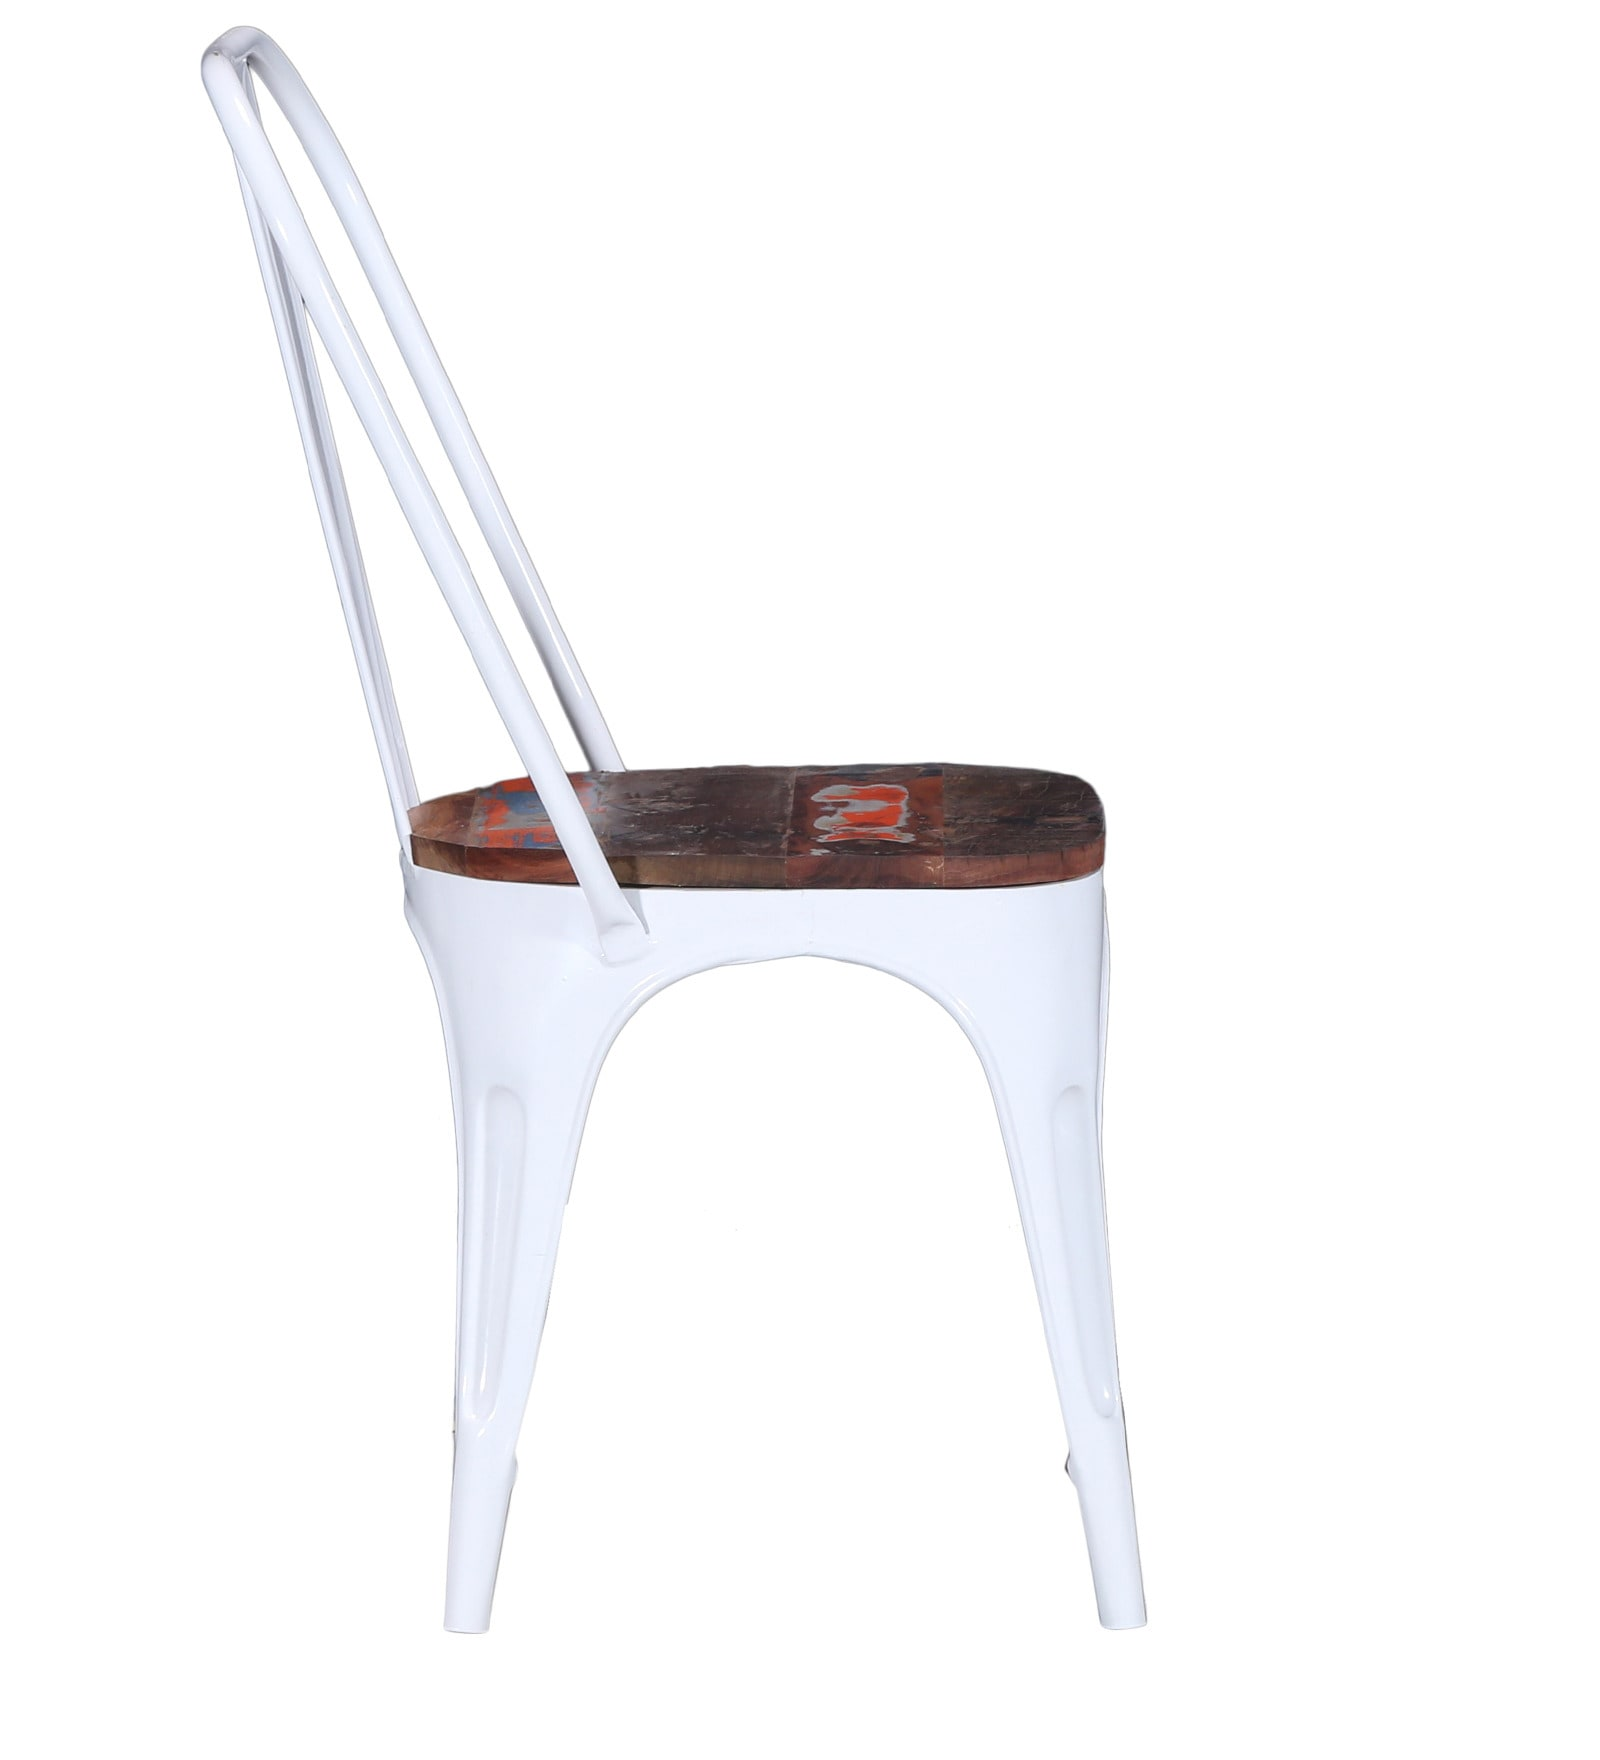Kumtor Metal Chair in Distress White Color with Wooden Seat by Bohemiana: (150, 23, 1205, 1682)
